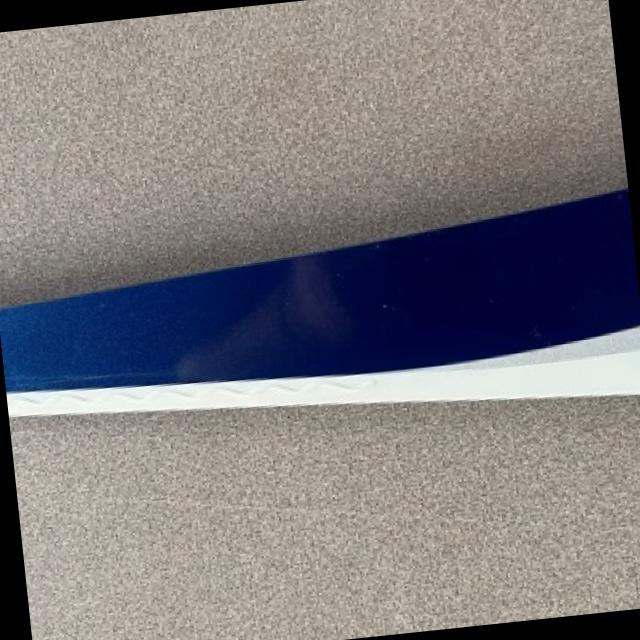healthy: (11, 394, 640, 640), (0, 189, 640, 415)
